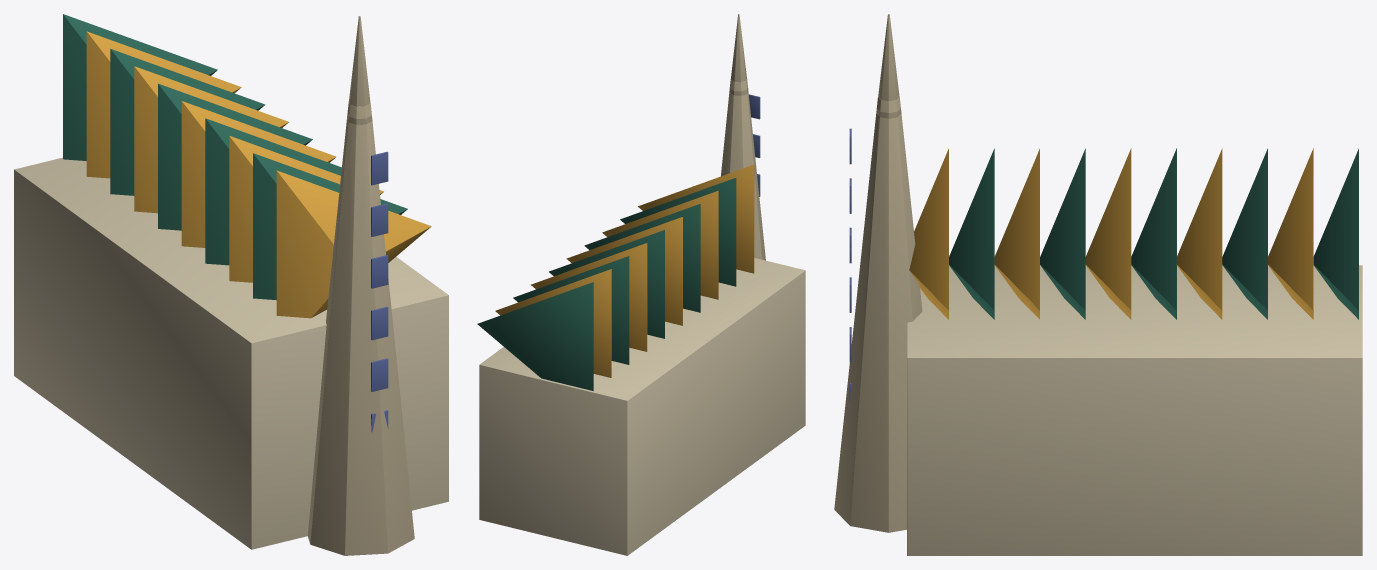
Rendered from marco_viena.glb.
3 renders of one model, left to right at view 1: azimuth 30°, elevation 25°; view 2: azimuth 150°, elevation 25°; view 3: azimuth 270°, elevation 25°, orthographic. The views are drawn at different scales.
Visible parts, largest first — view 1: marco_viena; view 2: marco_viena; view 3: marco_viena.
Boxes of the visible parts, x1=… form: marco_viena: x1=14, y1=14, x2=448, y2=555; marco_viena: x1=477, y1=14, x2=805, y2=555; marco_viena: x1=834, y1=14, x2=1362, y2=555.
Size of the model in its own units: 24.56 by 60 by 57.99.
